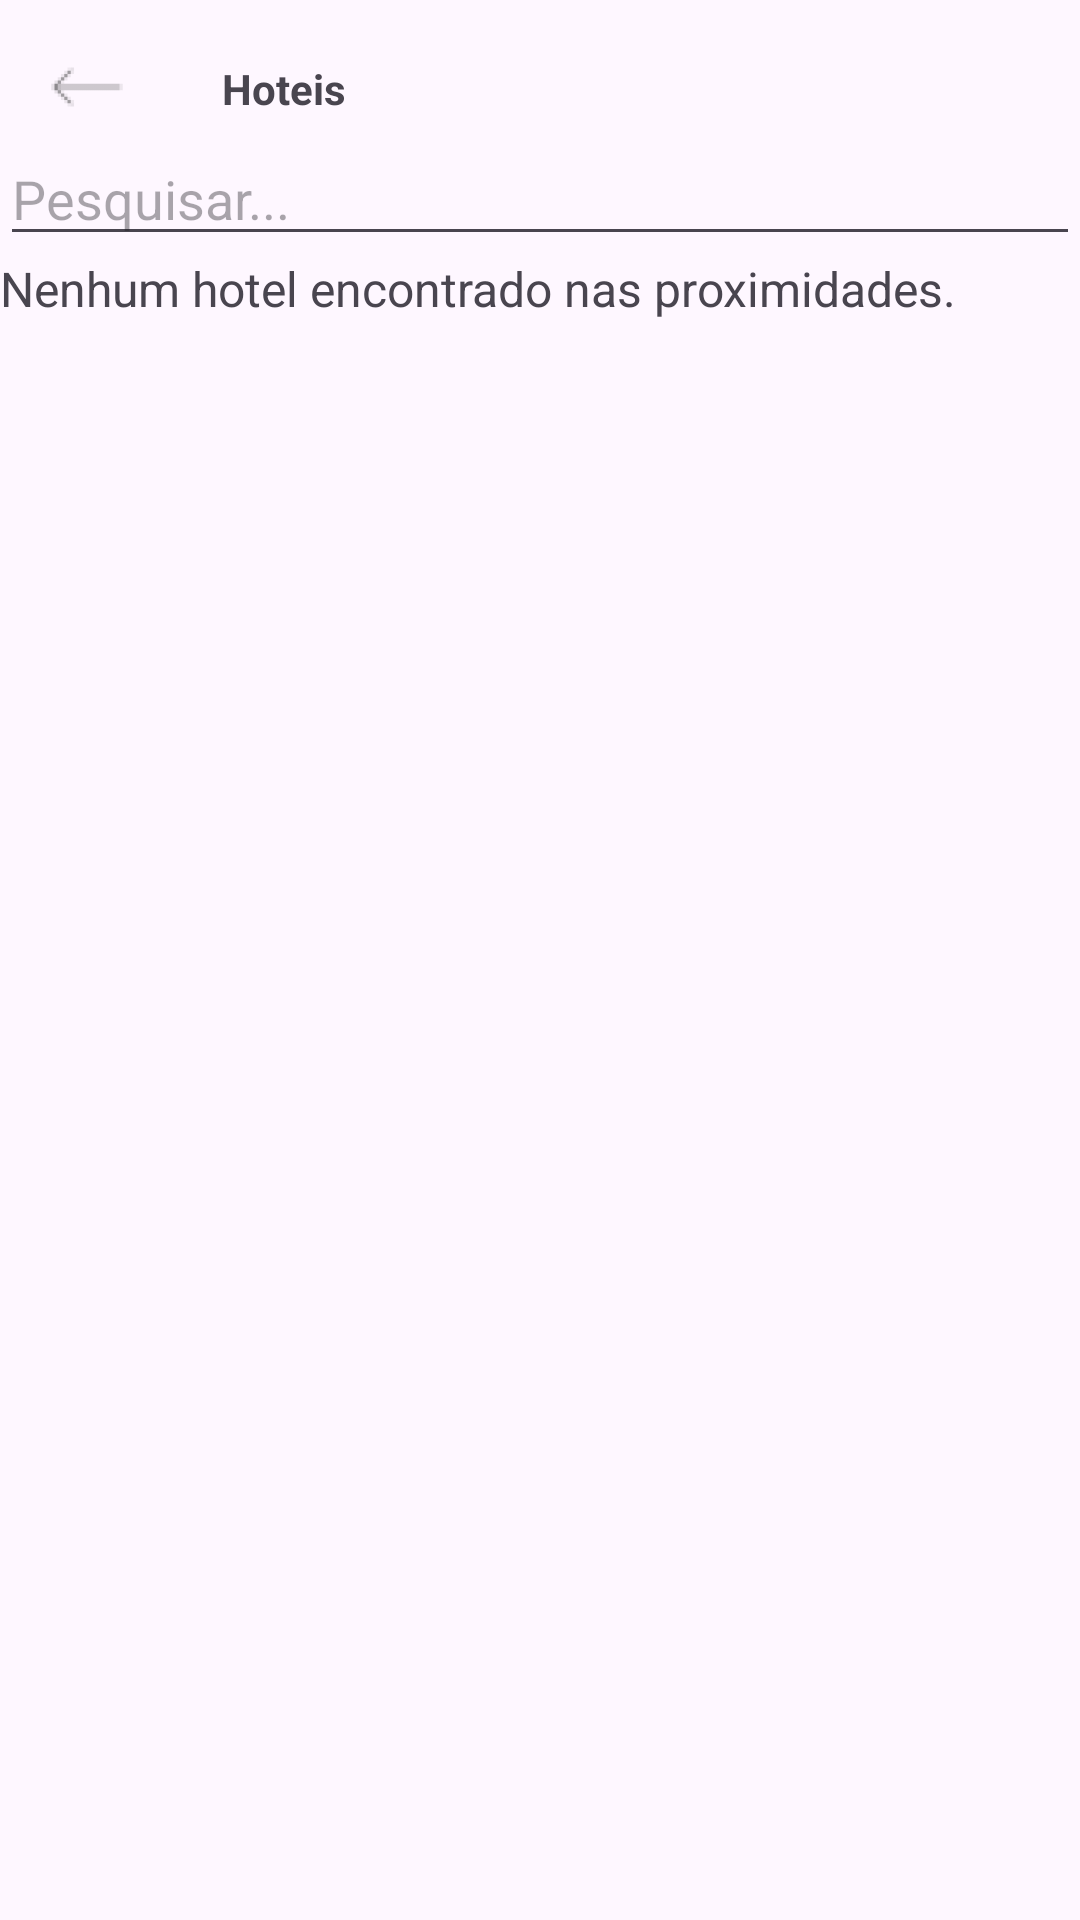

Named icons in this screenshot (1080*1920) and their centers, (x,y):
voltar: (87,87)
